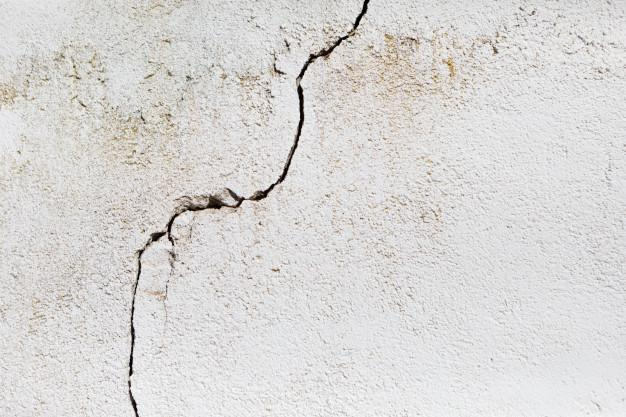crack: (127, 0, 369, 417)
